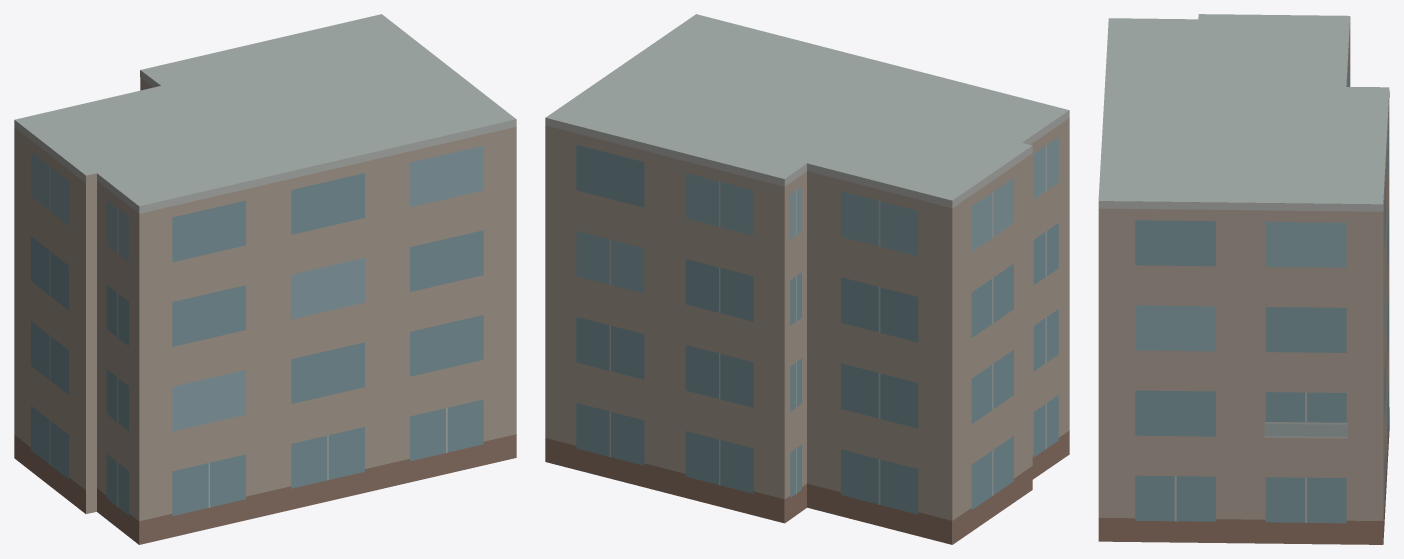
The model's file is survey-upis-32608760.glb.
3 renders of one model, left to right at view 1: azimuth 30°, elevation 25°; view 2: azimuth 150°, elevation 25°; view 3: azimuth 270°, elevation 25°, orthographic.
Visible parts, largest first — view 1: survey-upis-32608760.tmp; view 2: survey-upis-32608760.tmp; view 3: survey-upis-32608760.tmp.
Part boxes in pixels (<box>): survey-upis-32608760.tmp: <box>14,14,516,544</box>; survey-upis-32608760.tmp: <box>545,14,1069,544</box>; survey-upis-32608760.tmp: <box>1098,14,1389,544</box>.
Size of the model in its own units: 13.19 by 11 by 8.53.
